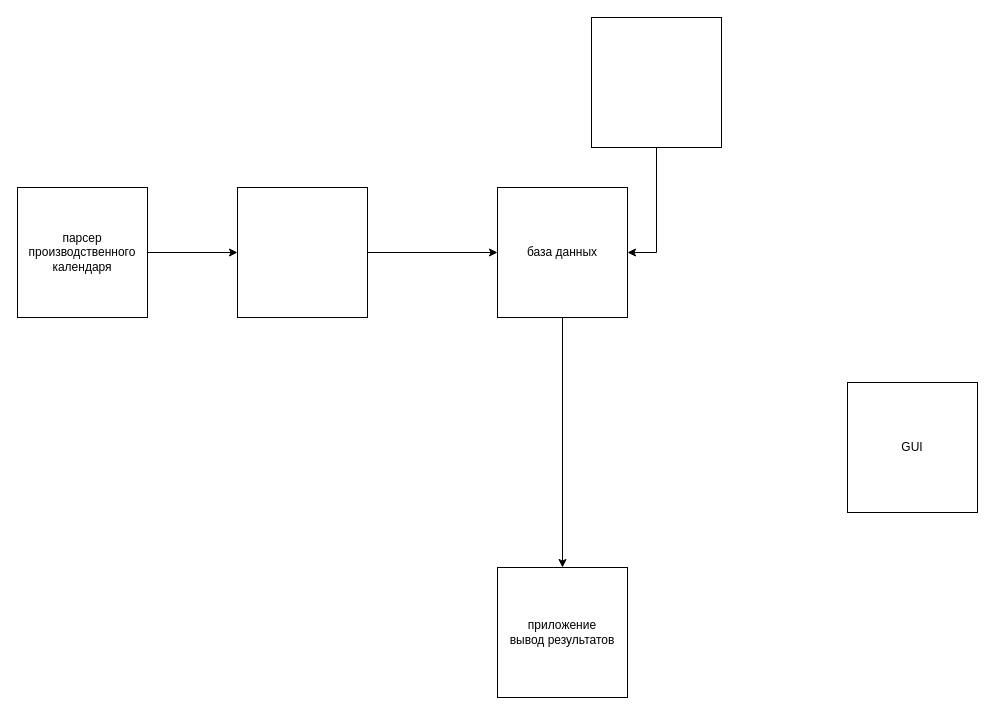
The diagram is 995 pixels wide and 715 high, and some of its shapes have lost their labels. Each missing label, with the box of its shape:
приложение календарь: (236, 186, 368, 318)
приложение список сотрудников: (590, 16, 722, 148)
